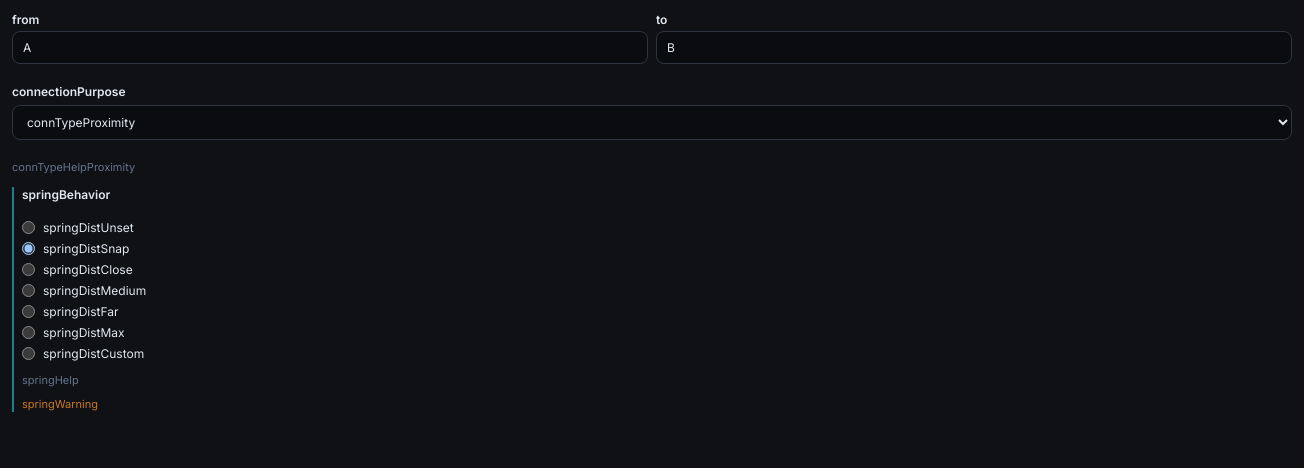
Scenario: spring distance control › switches into exact-value mode from a preset and keeps the number
The width and height of the screenshot is (1304, 468).
Check: the radio button named "proximity-length" is checked, box [22, 242, 35, 255]
Click the radio button named "proximity-length". click: (28, 354)
box: [22, 347, 35, 360]
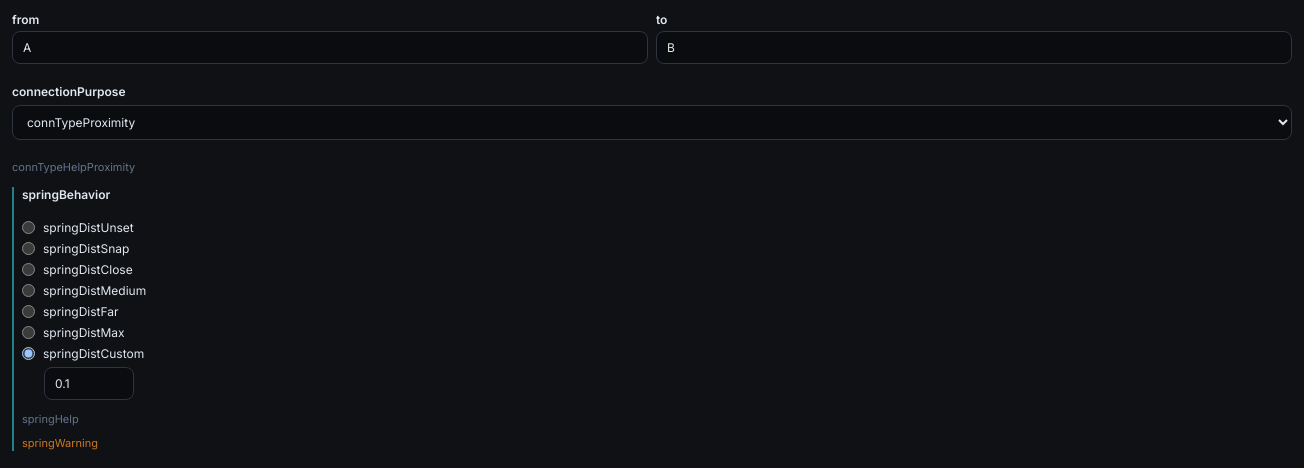
Check: the radio button named "proximity-length" is checked, box [22, 347, 35, 360]
Check: the number field titled "springDistCustom" holds "0.1", box [44, 367, 134, 400]
